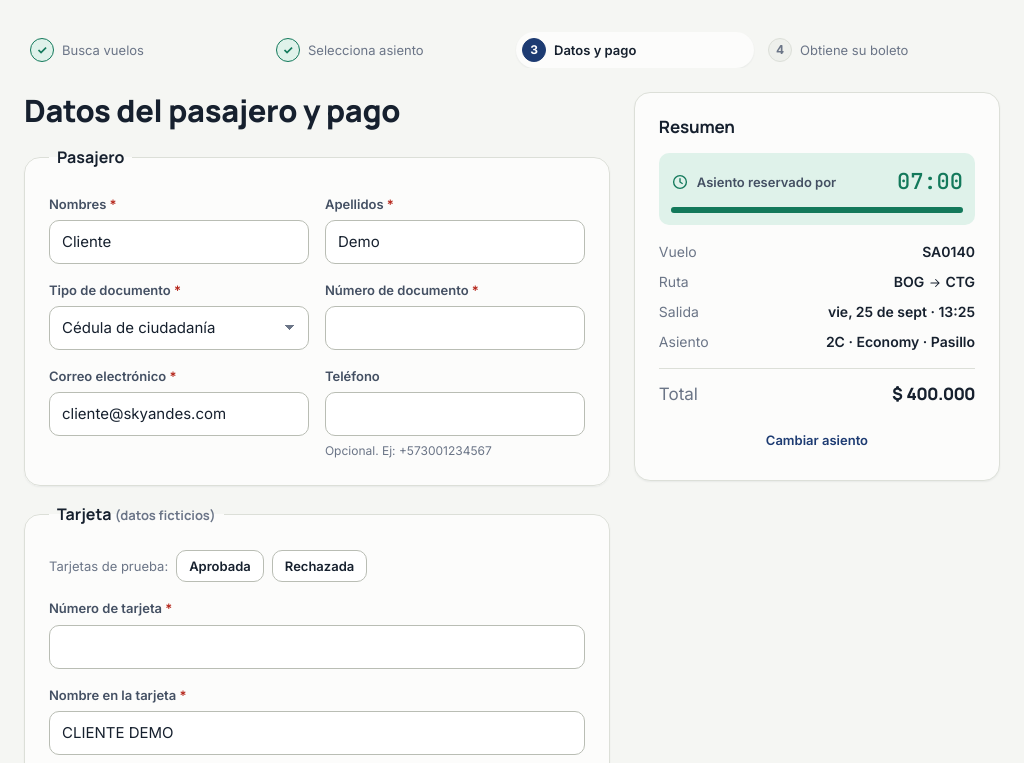
Scenario: CheckoutPage (HU3) › muestra el rechazo del pago y mantiene el asiento bloqueado
This screenshot has width=1024, height=763.
In the field labelled "Número de documento *": (455, 328) [325,306,585,350], type "1037600123"
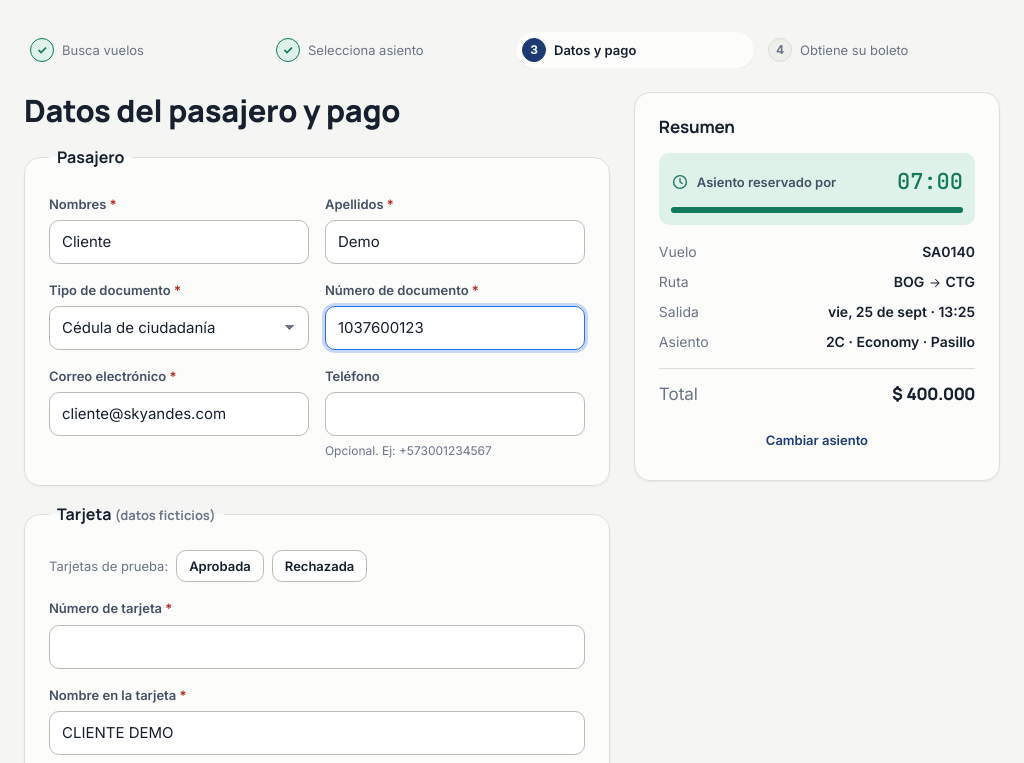
Click the button "Rechazada": (320, 566) [272,550,367,582]
(page scrolled)
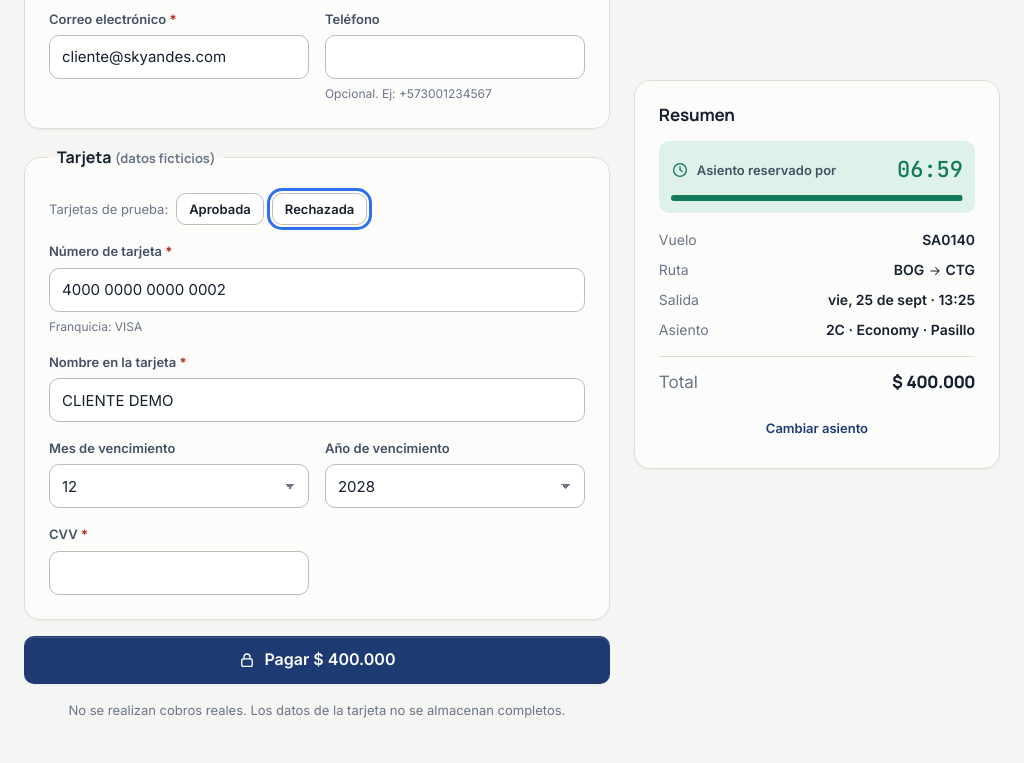
In the field labelled "CVV *": (179, 573) [49,551,309,595], type "123"
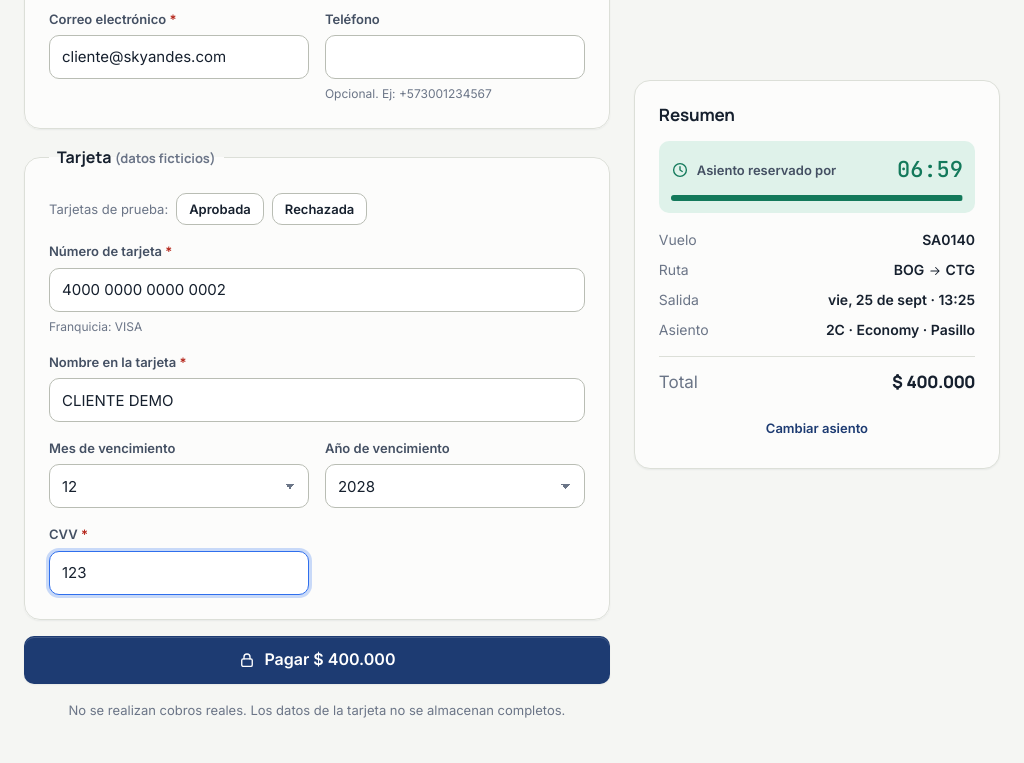
Click the button "Pagar $ 400.000": (317, 660) [24,636,610,684]
(page scrolled)
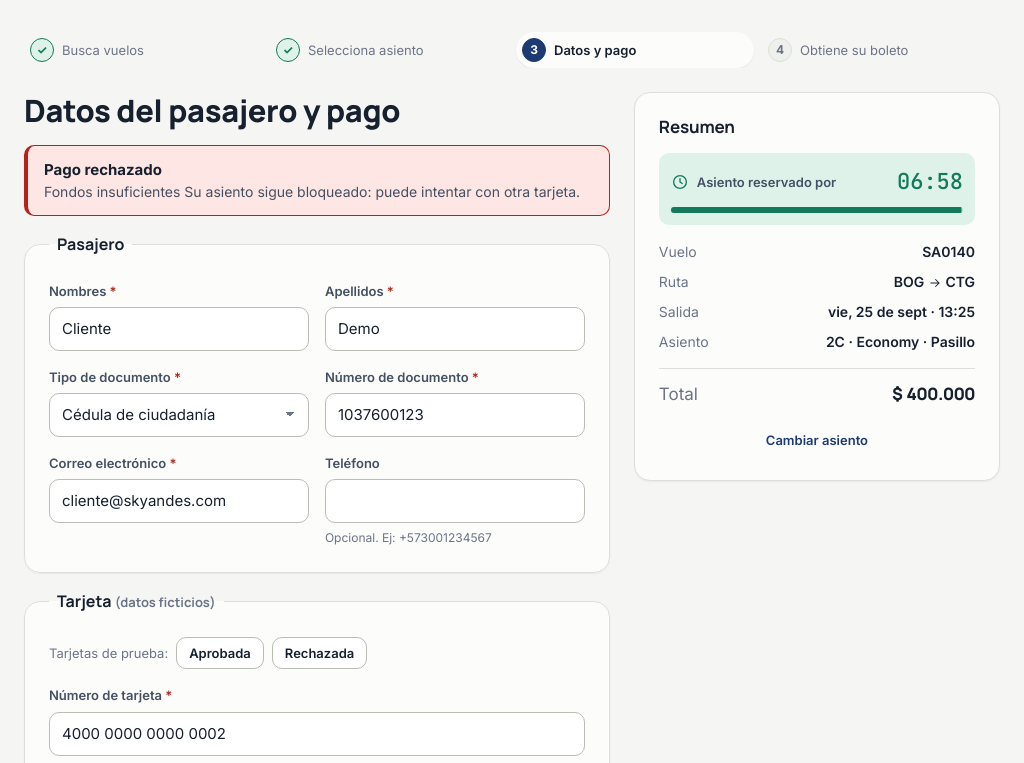
Now the text "Pago rechazado" is shown, box [44,160,162,179]
Now the text "Fondos insuficientes" is shown, box [44,183,180,200]
